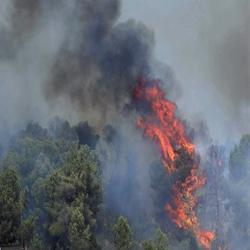fire: (137, 88, 196, 157), (168, 196, 191, 229)
smoke: (56, 43, 126, 119)
